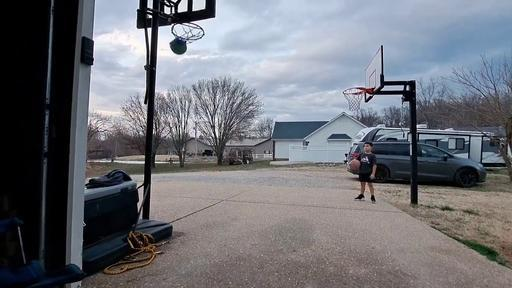ball: (169, 39, 188, 54), (349, 160, 360, 173)
human: (355, 143, 378, 203)
rim: (171, 20, 205, 52), (342, 86, 368, 112)
